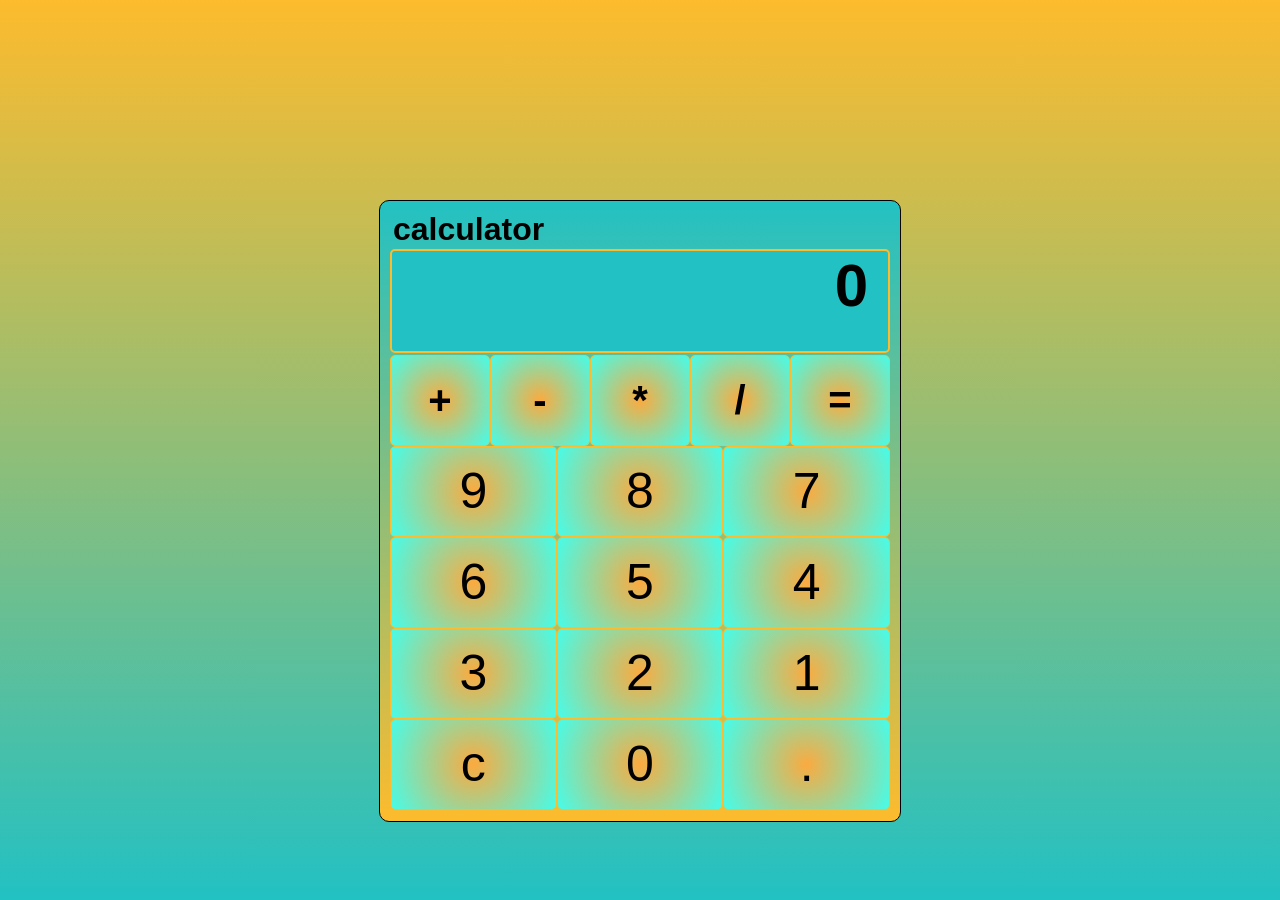
Test case: display calculations › display 4 when 2+2
The width and height of the screenshot is (1280, 900).
Click the button "2" at [640, 673], box 557,628 -> 723,719
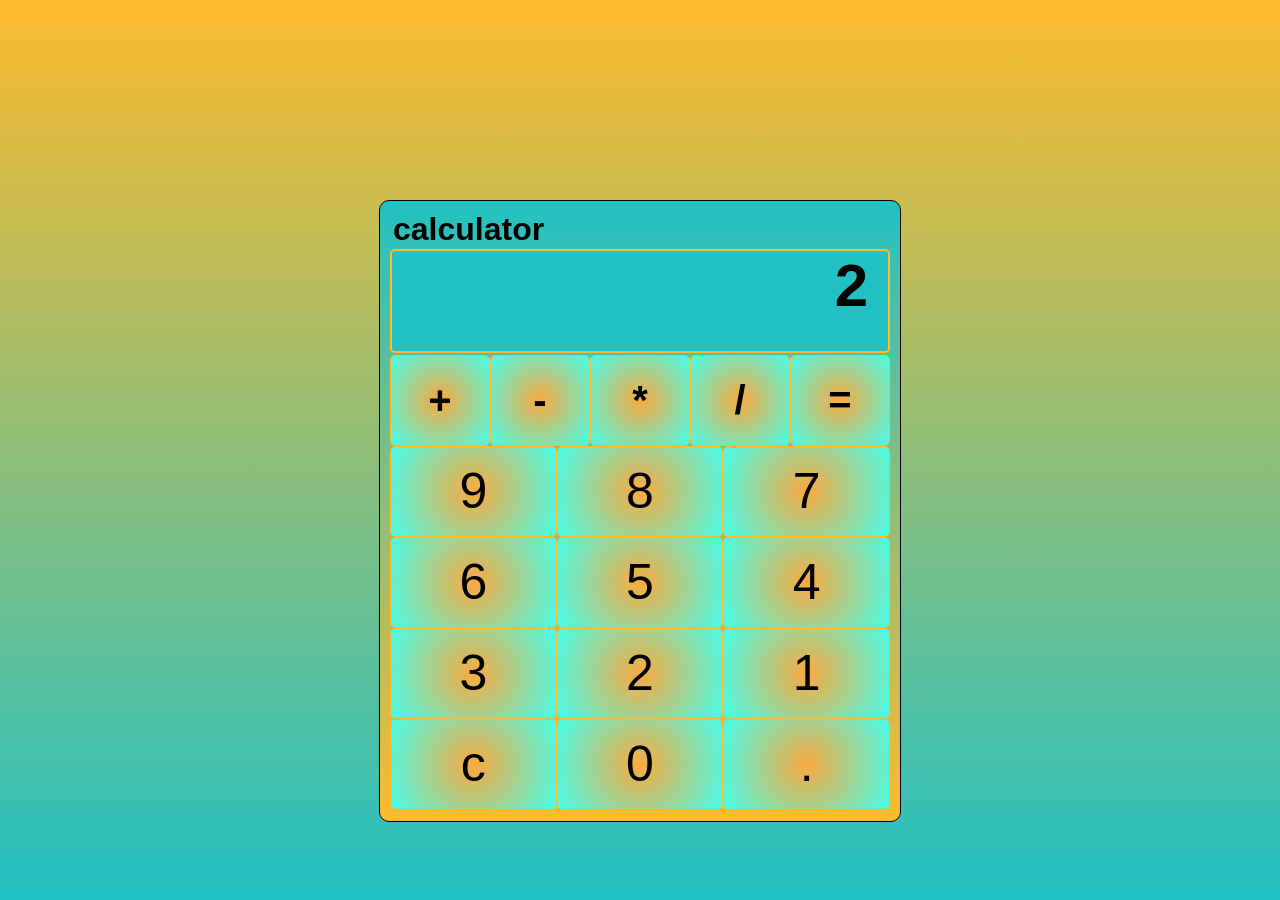
Click the button "+" at [440, 400], box 390,355 -> 490,446
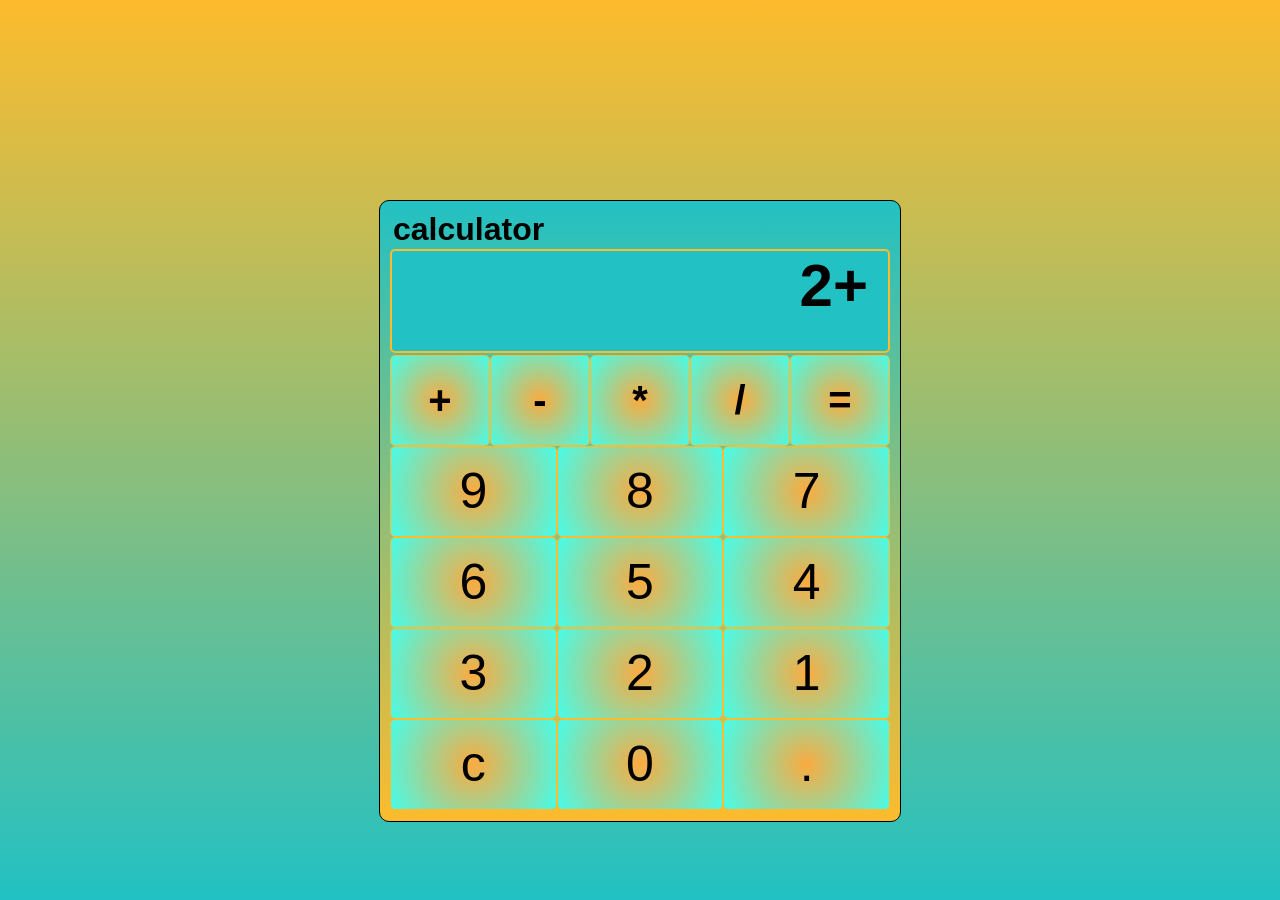
Click the button "2" at [640, 673], box 557,628 -> 723,719
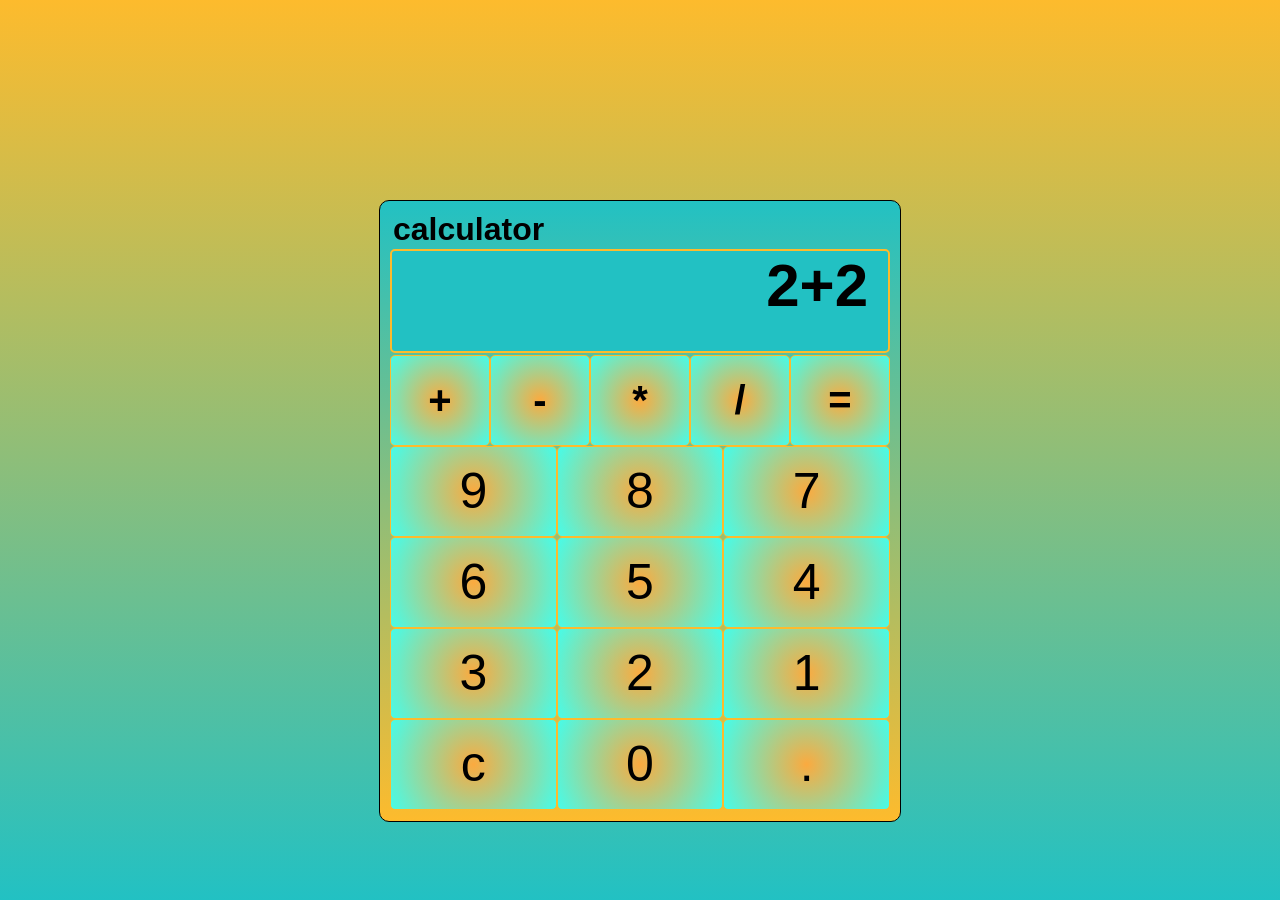
Click the button "=" at [840, 400], box 790,355 -> 890,446
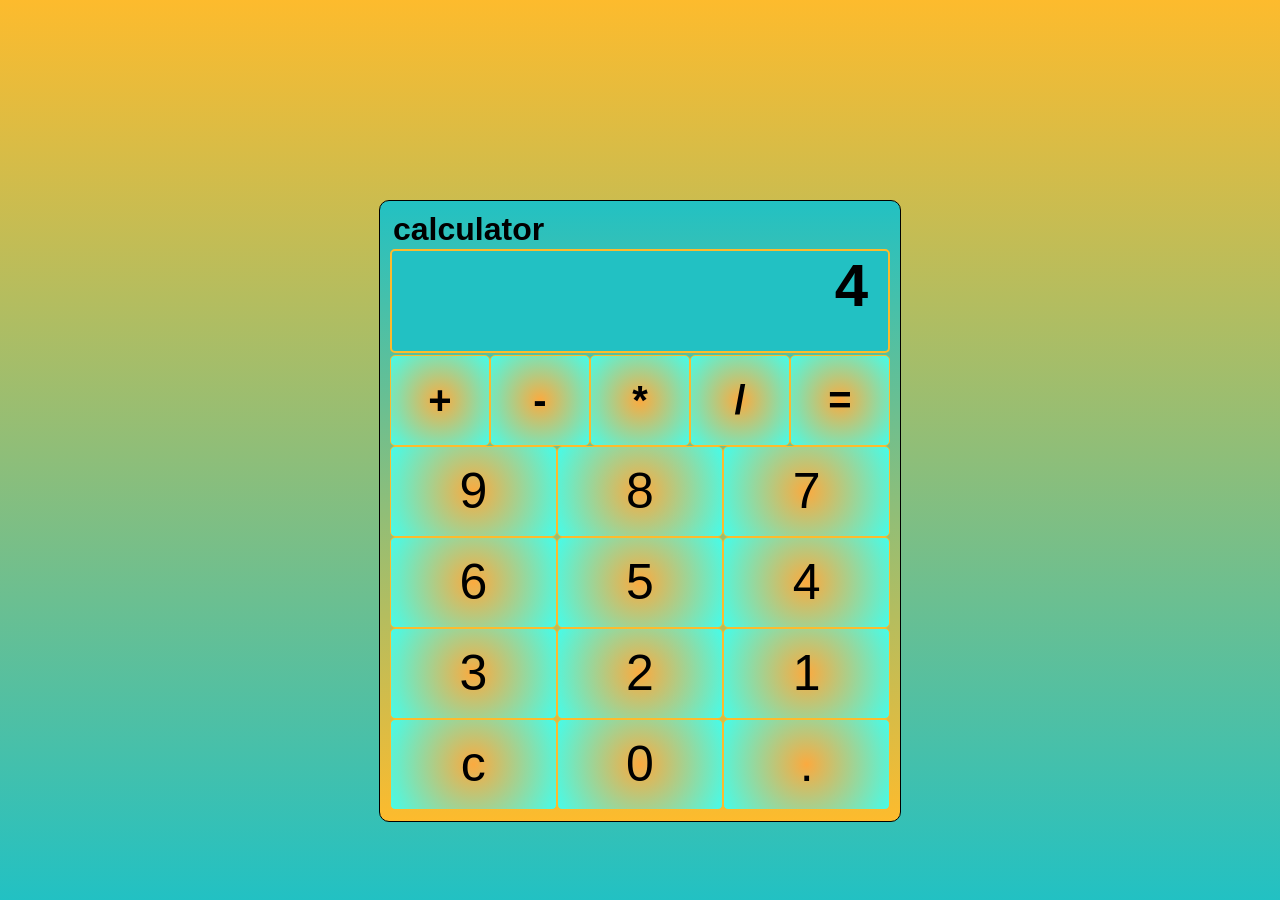
Expected: the heading with test id "display" reads "4", 835,252 -> 868,319
